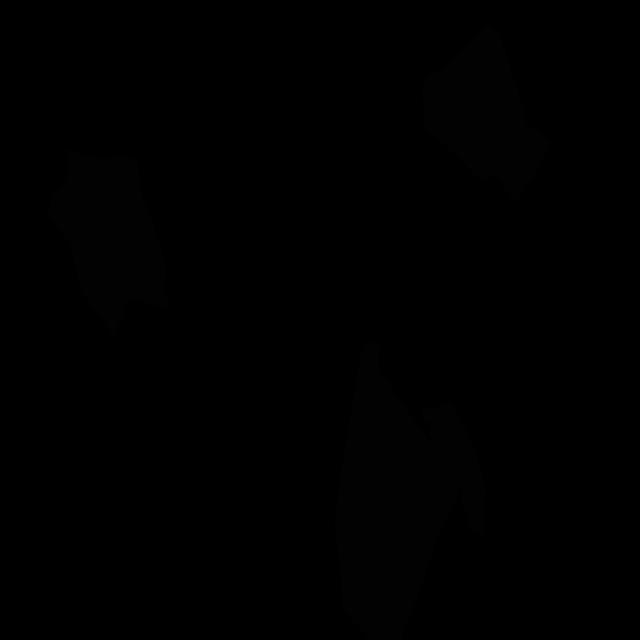cardboard: (334, 341, 463, 640), (47, 148, 168, 339), (422, 25, 550, 203), (422, 402, 486, 536)
